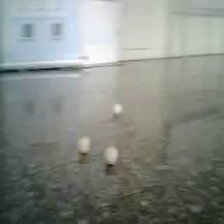tennis: (119, 174, 157, 221), (39, 99, 62, 128), (84, 67, 97, 86)
